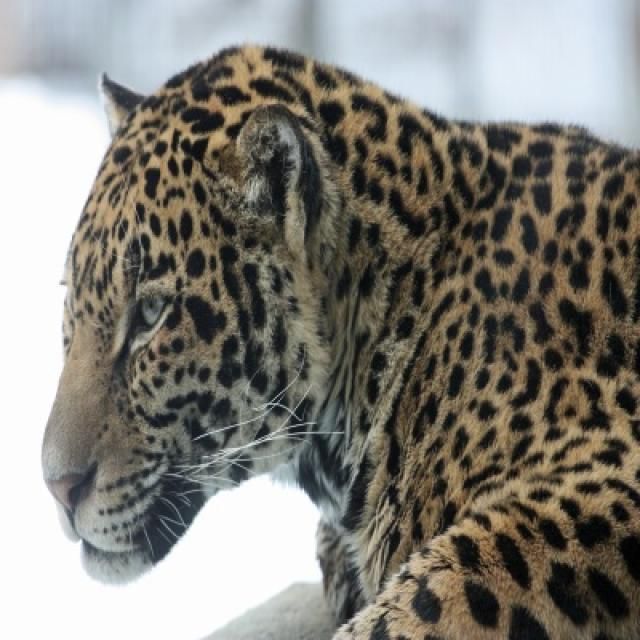Jaguar: (38, 43, 638, 638)
